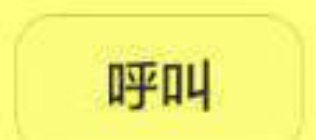Button: (1, 1, 315, 139)
